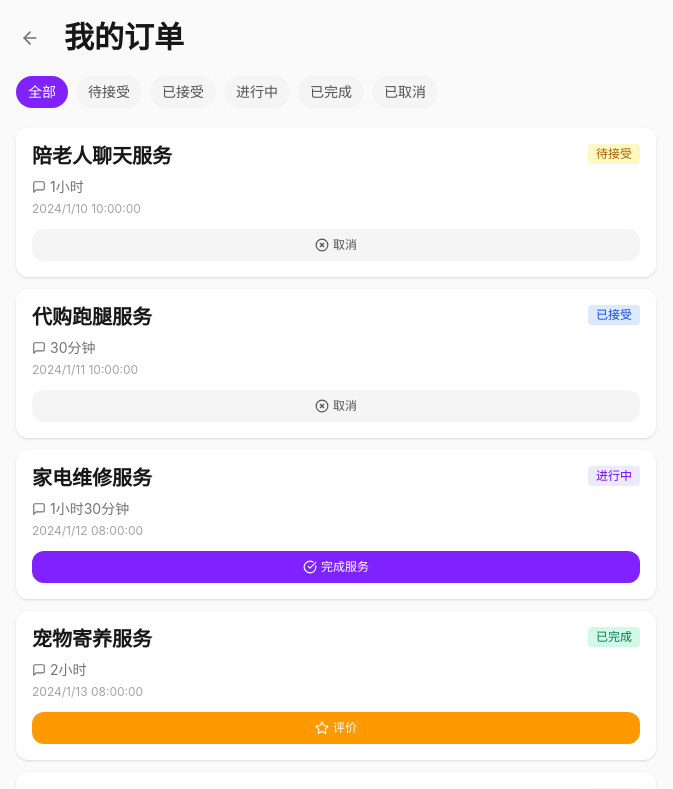
Test: TimeBank/MyOrders 订单列表 › 点击"评价"打开评价表单
This screenshot has width=673, height=789.
expect the heading "宠物寄养服务" is shown: met, box top-left (32, 627), bottom-right (152, 651)
expect the field with placeholder "写下您的评价..." is not shown: met
# 点击"评价"按钮
Click the button "评价". click: click(336, 728)
box: top-left (32, 712), bottom-right (640, 744)
(page scrolled)
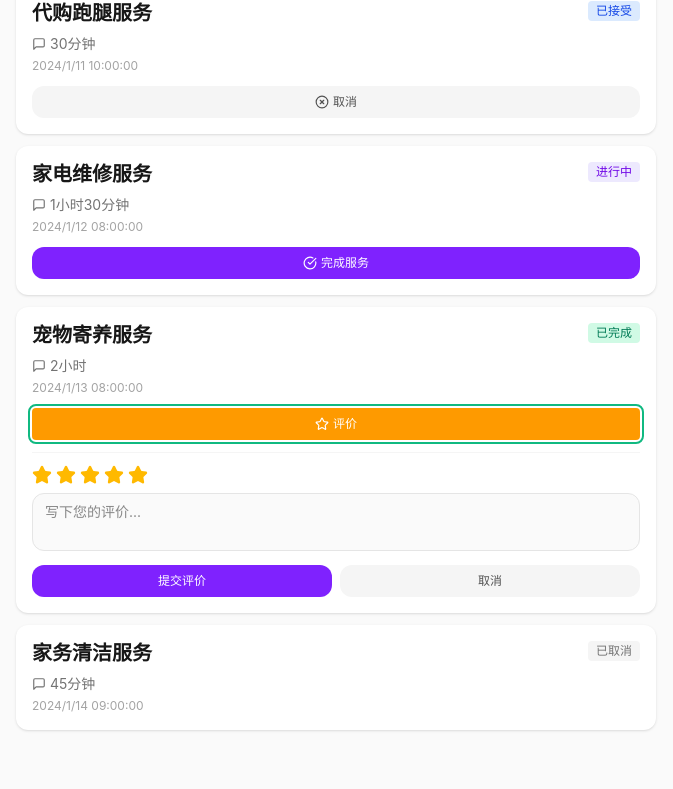
expect the text box with placeholder "写下您的评价..." is shown: met, box top-left (32, 493), bottom-right (640, 551)
expect the button "提交评价" is shown: met, box top-left (32, 565), bottom-right (332, 597)
